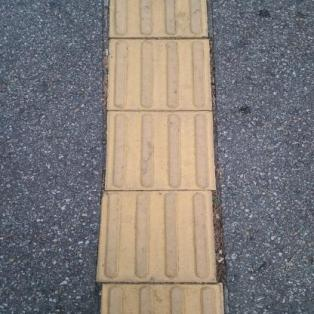Podoctatil: (91, 0, 229, 313)
